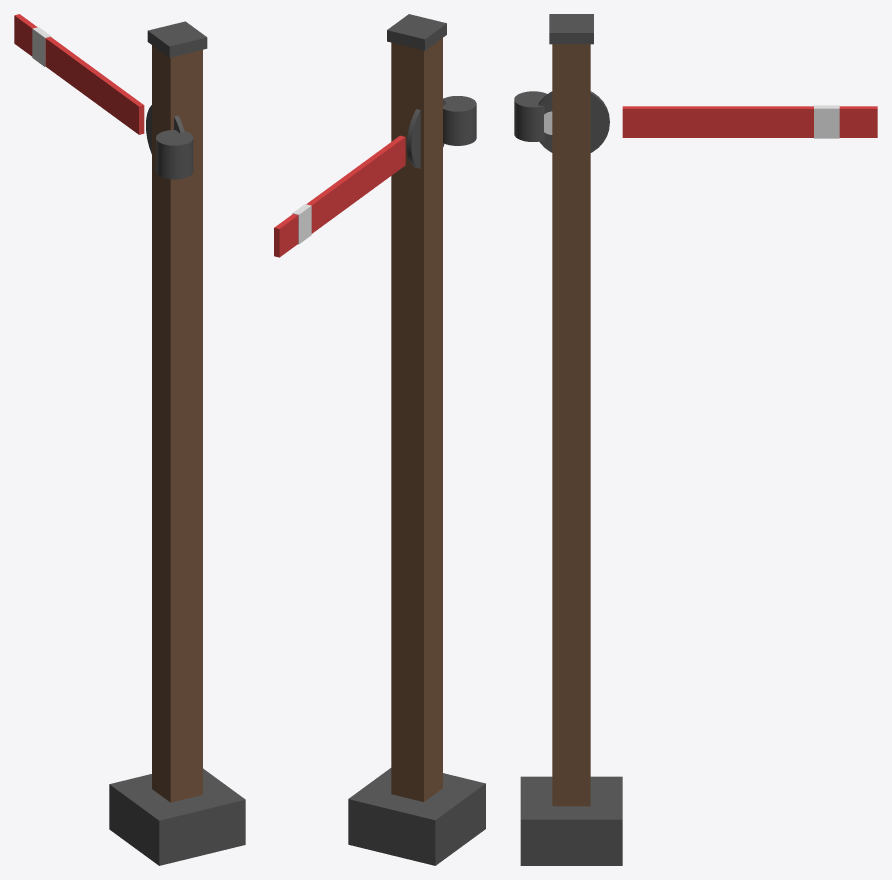
The model's file is Classic_Semaphore.fbx.
3 views of the same model, side by side, from view 1: azimuth 30°, elevation 25°; view 2: azimuth 150°, elevation 25°; view 3: azimuth 270°, elevation 25° (orthographic). The views are drawn at different scales.
Visible parts, largest first — view 1: Wooden_Mast, Base, Blade_Main, Oil_Lamp, Finial_Cap, Blade_Stripe; view 2: Wooden_Mast, Base, Blade_Main, Oil_Lamp, Finial_Cap, Spectacle_Frame, Blade_Stripe; view 3: Wooden_Mast, Base, Blade_Main, Oil_Lamp, Finial_Cap, Spectacle_Frame, Blade_Stripe.
Boxes of the visible parts, box(x1,y1,x2,y2) form: Wooden_Mast: box(152, 45, 202, 802); Base: box(109, 768, 245, 865); Blade_Main: box(14, 14, 144, 134); Oil_Lamp: box(156, 130, 193, 179); Finial_Cap: box(147, 21, 207, 57); Blade_Stripe: box(32, 27, 51, 66); Wooden_Mast: box(391, 38, 442, 801); Base: box(348, 768, 485, 865); Blade_Main: box(274, 135, 405, 257); Oil_Lamp: box(443, 96, 476, 145); Finial_Cap: box(387, 14, 446, 50); Spectacle_Frame: box(407, 98, 446, 168); Blade_Stripe: box(292, 204, 311, 244); Wooden_Mast: box(552, 44, 590, 806); Base: box(520, 776, 622, 865); Blade_Main: box(622, 106, 877, 137); Oil_Lamp: box(514, 91, 547, 141); Finial_Cap: box(549, 14, 593, 44); Spectacle_Frame: box(538, 91, 609, 152); Blade_Stripe: box(814, 105, 839, 138).
Size of the model in its own units: 0.8 by 2.85 by 7.1.
